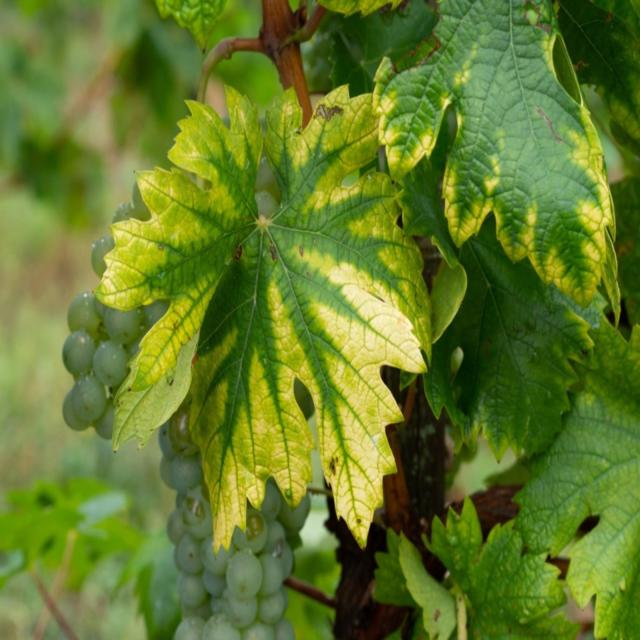Chlorosis: (55, 9, 447, 566)
